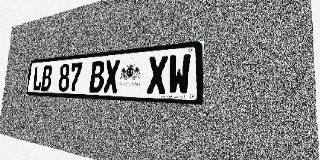7: (69, 62, 83, 92)
8: (58, 63, 71, 92)
B: (89, 60, 105, 93), (41, 65, 53, 91)
L: (32, 66, 43, 91)
W: (167, 53, 191, 95)
X: (146, 55, 168, 94), (103, 59, 120, 93)
